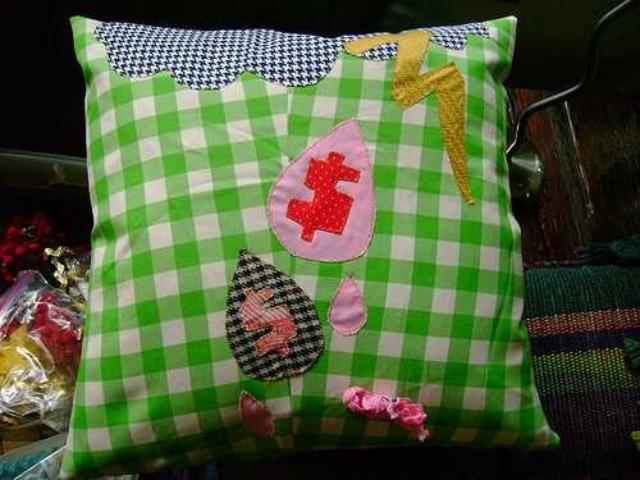pillow: (58, 13, 560, 477)
